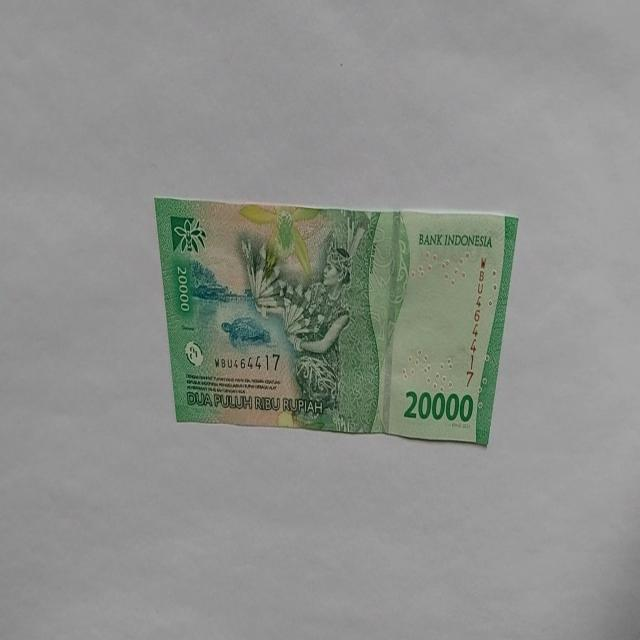dua puluh ribu rupiah: (153, 196, 519, 447)
